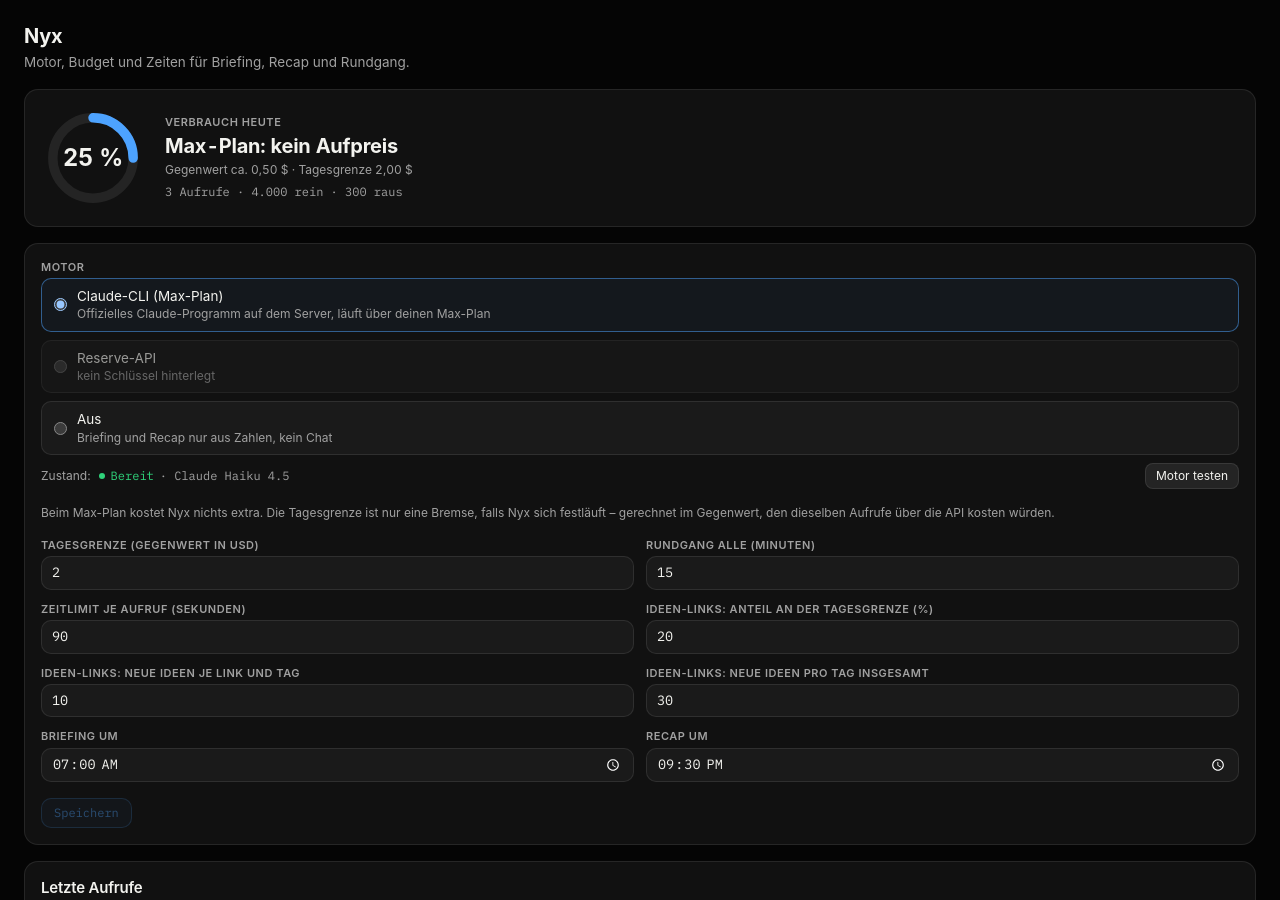
Test case: Nyx-Einstellungen: ehrlicher Zustand + Max-Plan statt Dollar-Warnung › „Motor testen“ stellt „Wer bist du?“ und zeigt Antwort + Dauer
Click the button "Motor testen" at point(1192, 476), box [1145,463,1239,489]
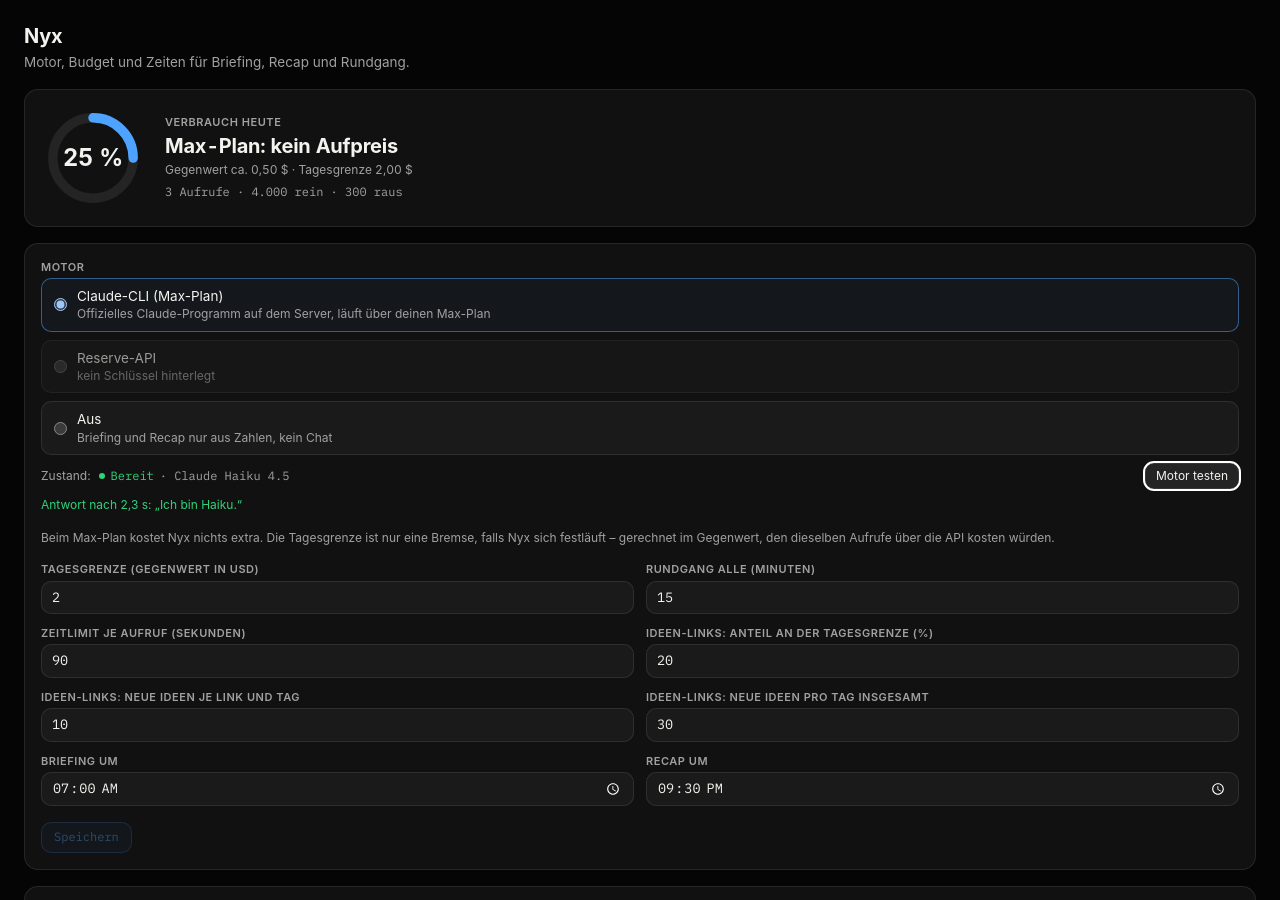
Expected: the text "Antwort nach 2,3 s: „Ich bin Haiku.“" is shown, [41,497,242,512]
